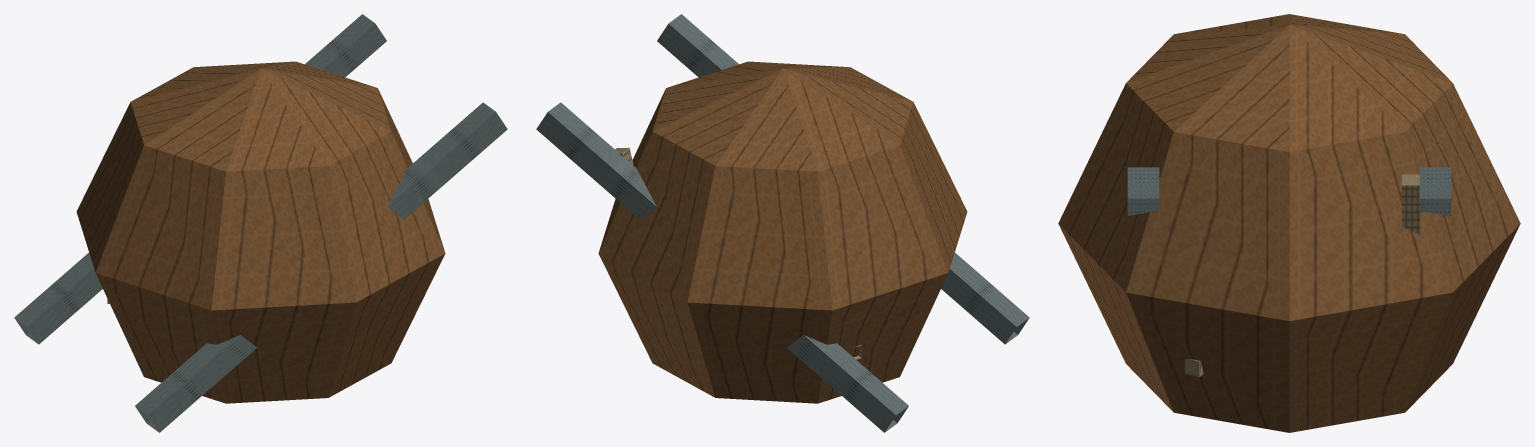
File: military-INFERNO_BALL-1-lod1.glb
3 renders of one model, left to right at view 1: azimuth 30°, elevation 25°; view 2: azimuth 150°, elevation 25°; view 3: azimuth 270°, elevation 25°, orthographic. The views are drawn at different scales.
Bounding box in the file's own units: 0.4134 × 0.36 × 0.38.
Materials: 1 (1 with a texture image).
